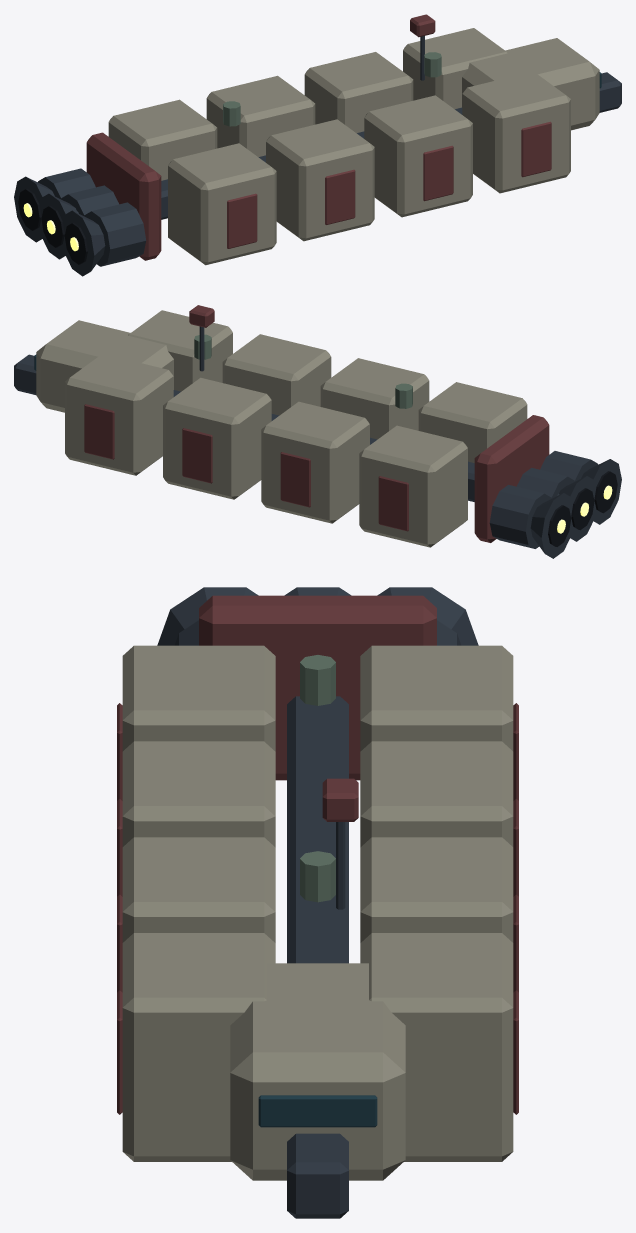
Rendered from closed-circuit.glb.
The picture shows the model from 3 angles, top to bottom: view 1: azimuth 30°, elevation 25°; view 2: azimuth 150°, elevation 25°; view 3: azimuth 270°, elevation 25°; orthographic projection. The views are drawn at different scales.
Parts seen in each view (by area): view 1: detention module, detention module.002, detention module.001, detention module.003, detention module.006, forward command, detention module.005, detention module.004, reactor shield, detention module.007, engine jacket, secure door.001 (+15 smaller); view 2: detention module.004, detention module.006, detention module.005, detention module.007, detention module.002, forward command, detention module.001, detention module, reactor shield, detention module.003, engine jacket.002, secure door.004 (+14 smaller); view 3: forward command, detention module.003, detention module.007, structural spine, reactor shield, detention module, detention module.001, detention module.004, detention module.005, detention module.002, detention module.006, bridge glazing (+6 smaller).
Boxes of the visible parts, bbox=[...] form: detention module: bbox=[168, 143, 276, 265]; detention module.002: bbox=[364, 95, 472, 217]; detention module.001: bbox=[266, 119, 374, 241]; detention module.003: bbox=[462, 71, 570, 193]; detention module.006: bbox=[304, 52, 413, 133]; forward command: bbox=[462, 38, 599, 130]; detention module.005: bbox=[206, 75, 315, 156]; detention module.004: bbox=[108, 99, 217, 180]; reactor shield: bbox=[86, 132, 161, 260]; detention module.007: bbox=[403, 28, 507, 109]; engine jacket: bbox=[84, 202, 146, 266]; secure door.001: bbox=[325, 169, 355, 224]; detention module.004: bbox=[359, 425, 467, 547]; detention module.006: bbox=[163, 377, 271, 499]; detention module.005: bbox=[261, 401, 369, 523]; detention module.007: bbox=[65, 353, 173, 475]; detention module.002: bbox=[222, 334, 331, 415]; forward command: bbox=[36, 320, 173, 412]; detention module.001: bbox=[320, 358, 429, 439]; detention module: bbox=[418, 382, 527, 462]; reactor shield: bbox=[474, 415, 549, 542]; detention module.003: bbox=[128, 310, 232, 391]; engine jacket.002: bbox=[489, 485, 551, 548]; secure door.004: bbox=[378, 476, 408, 531]; forward command: bbox=[230, 963, 405, 1180]; detention module.003: bbox=[122, 933, 275, 1161]; detention module.007: bbox=[360, 933, 513, 1161]; structural spine: bbox=[287, 696, 348, 1218]; reactor shield: bbox=[199, 595, 436, 780]; detention module: bbox=[122, 645, 275, 751]; detention module.001: bbox=[122, 741, 275, 847]; detention module.004: bbox=[360, 645, 513, 751]; detention module.005: bbox=[360, 741, 513, 847]; detention module.002: bbox=[122, 837, 275, 942]; detention module.006: bbox=[360, 837, 513, 942]; bridge glazing: bbox=[258, 1095, 377, 1127].
Bounding box in the file's own units: 11.54 × 2.79 × 3.55.
